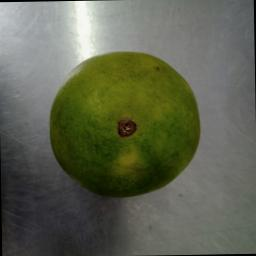Orange Unripe: (45, 35, 213, 209)
